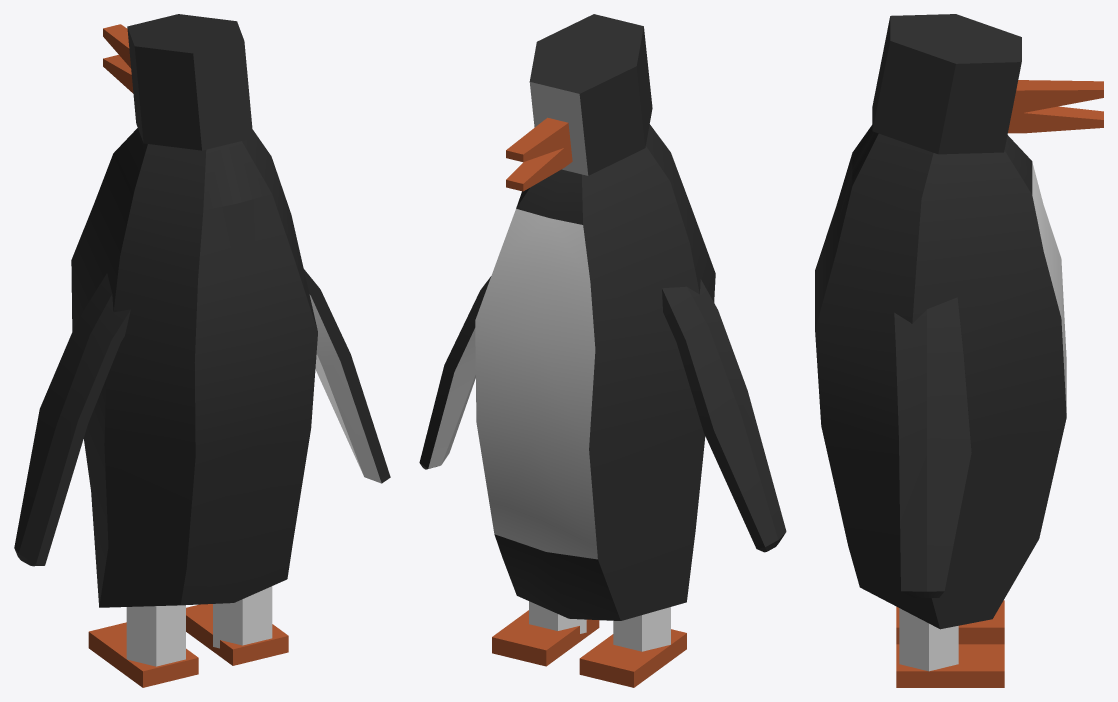
File: SM_EmperorPeng_Block.fbx
3 renders of one model, left to right at view 1: azimuth 30°, elevation 25°; view 2: azimuth 150°, elevation 25°; view 3: azimuth 270°, elevation 25°, orthographic. The views are drawn at different scales.
Parts seen in each view (by area): view 1: pCube10; view 2: pCube10; view 3: pCube10.
Boxes of the visible parts, x1,y1,x2,y2 form: pCube10: [14, 14, 390, 687]; pCube10: [419, 14, 786, 687]; pCube10: [815, 14, 1103, 687].
Size of the model in its own units: 66.05 by 109 by 45.52.
